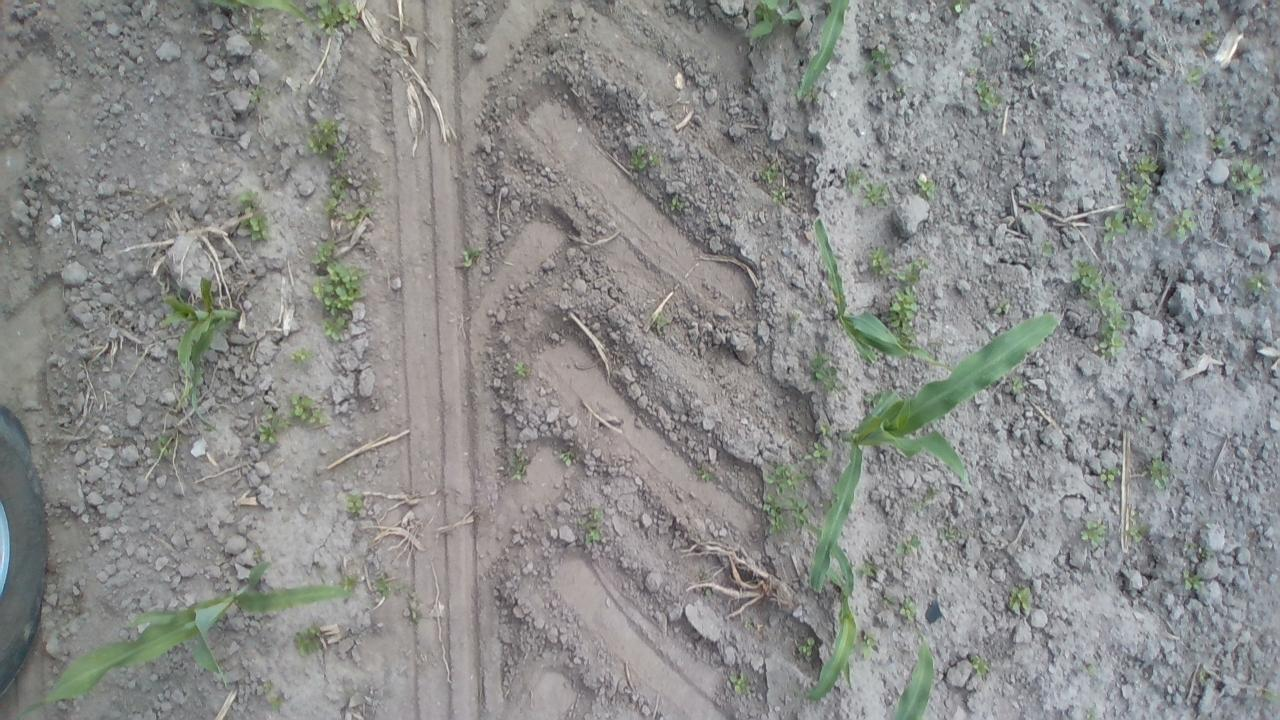Maize: (805, 311, 1059, 597), (15, 558, 362, 720), (812, 219, 958, 380), (796, 520, 859, 702), (159, 275, 240, 416), (796, 1, 847, 101), (892, 643, 935, 720), (209, 0, 315, 31)
Weeds: (865, 248, 946, 368), (1100, 153, 1198, 246), (308, 124, 380, 230), (308, 242, 368, 342), (1071, 262, 1130, 360), (759, 463, 810, 541), (748, 1, 802, 46), (236, 188, 270, 242), (314, 0, 360, 33), (1227, 158, 1264, 198), (804, 354, 840, 395), (808, 422, 841, 466), (292, 392, 332, 428), (253, 410, 290, 448), (764, 155, 791, 206), (571, 509, 604, 544), (904, 487, 940, 516), (292, 626, 322, 658), (854, 630, 880, 666), (630, 147, 664, 174), (976, 79, 1002, 114), (1008, 587, 1034, 619), (864, 49, 892, 78), (1078, 523, 1106, 551), (258, 682, 284, 712), (500, 446, 524, 477), (288, 346, 314, 374), (793, 636, 819, 662), (1150, 461, 1174, 488), (864, 180, 887, 208), (1184, 536, 1210, 560), (966, 655, 992, 679), (156, 435, 174, 468), (461, 241, 480, 272), (842, 169, 862, 197), (343, 494, 365, 518), (914, 176, 938, 198), (979, 27, 997, 54), (1039, 235, 1061, 257), (1182, 572, 1204, 594), (700, 570, 716, 600), (893, 538, 919, 556), (1032, 194, 1052, 216), (727, 671, 744, 696), (897, 600, 916, 622), (1250, 276, 1267, 300), (939, 528, 961, 546), (1128, 515, 1142, 541), (1186, 64, 1204, 84), (653, 312, 668, 334), (246, 87, 259, 109), (1100, 470, 1120, 484), (512, 361, 530, 376), (855, 564, 874, 578), (1024, 50, 1042, 64), (698, 468, 716, 482), (406, 605, 418, 625), (954, 1, 968, 18), (1214, 134, 1228, 151), (375, 582, 388, 600), (1264, 690, 1280, 704), (1012, 377, 1025, 394), (1199, 29, 1217, 41), (670, 195, 684, 210), (559, 450, 571, 467), (996, 300, 1010, 310)
